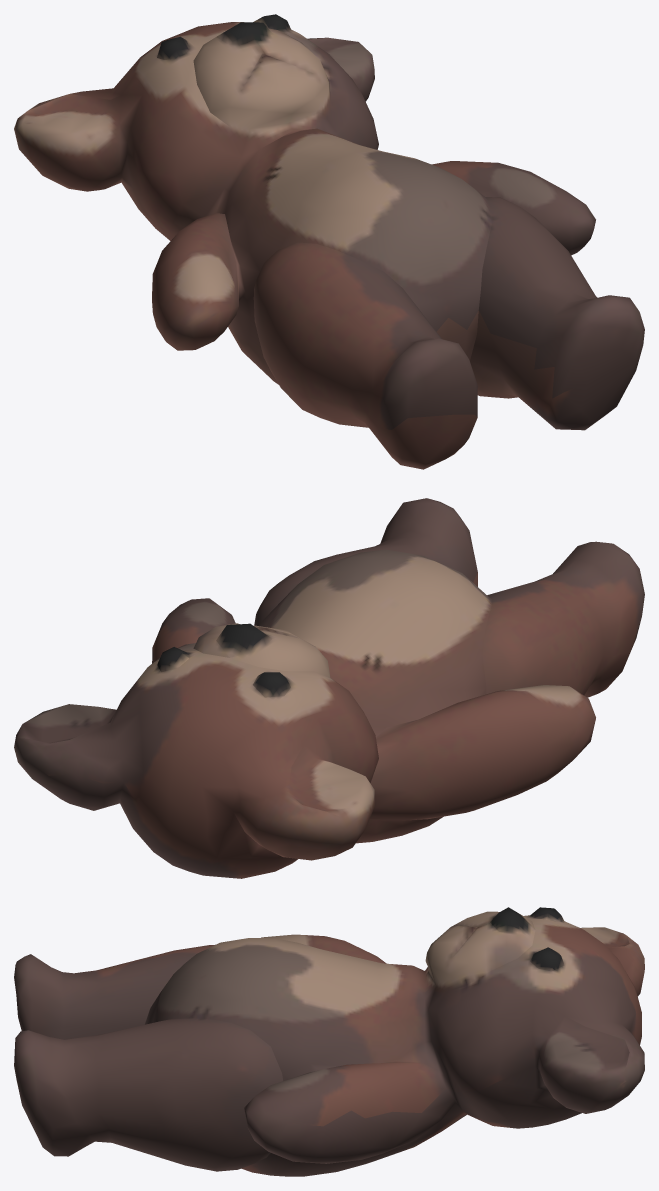
Rendered from TRINKET_Teddy Variant.fbx.
The picture shows the model from 3 angles, top to bottom: view 1: azimuth 30°, elevation 25°; view 2: azimuth 150°, elevation 25°; view 3: azimuth 270°, elevation 25°; orthographic projection. The views are drawn at different scales.
Parts seen in each view (by area): view 1: Teddy; view 2: Teddy; view 3: Teddy.
Boxes of the visible parts, left/top/right/bottom form: Teddy: left=14, top=14, right=644, bottom=469; Teddy: left=14, top=498, right=644, bottom=878; Teddy: left=14, top=907, right=644, bottom=1176.
Size of the model in its own units: 1.43 by 0.9131 by 2.1.
Materials: 1 (1 with a texture image).
